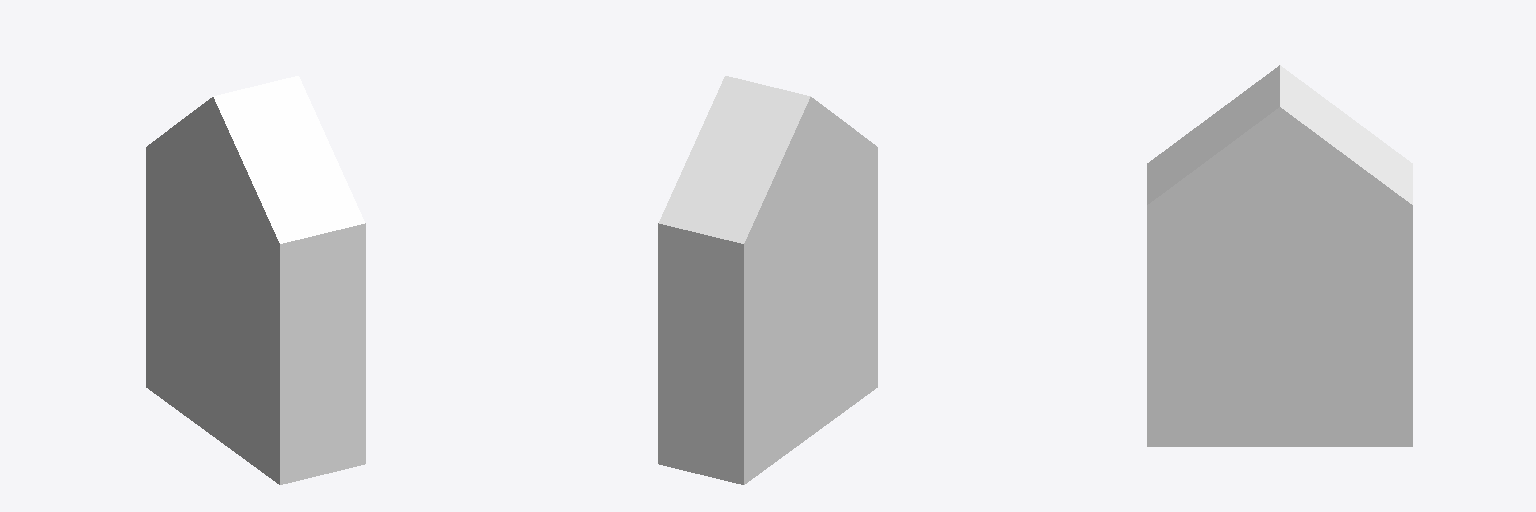
Rendered from point.obj.
3 renders of one model, left to right at view 1: azimuth 30°, elevation 25°; view 2: azimuth 150°, elevation 25°; view 3: azimuth 270°, elevation 25°, orthographic.
Parts seen in each view (by area): view 1: Cube.006_Cube.001; view 2: Cube.006_Cube.001; view 3: Cube.006_Cube.001.
Boxes of the visible parts, <box> form: Cube.006_Cube.001: <box>146,76,365,484</box>; Cube.006_Cube.001: <box>658,76,877,484</box>; Cube.006_Cube.001: <box>1147,65,1412,446</box>.
Bounding box in the file's own units: 0.3703 × 1.41 × 1.